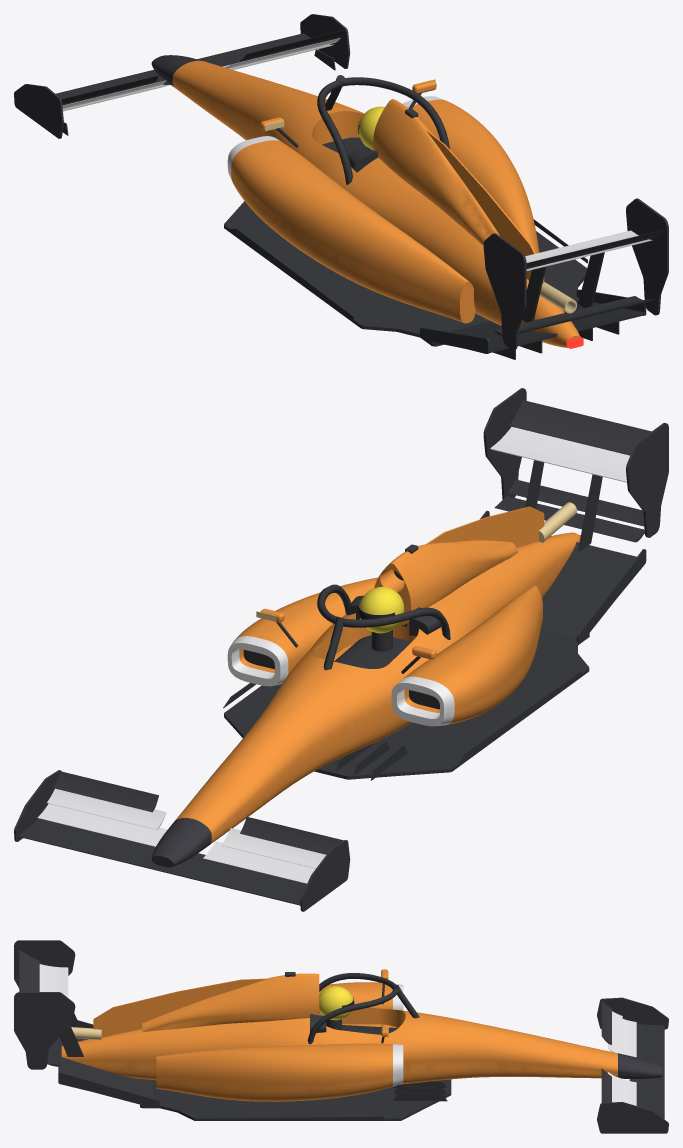
File: body.glb
The picture shows the model from 3 angles, top to bottom: view 1: azimuth 30°, elevation 25°; view 2: azimuth 150°, elevation 25°; view 3: azimuth 270°, elevation 25°; orthographic projection. The views are drawn at different scales.
Visible parts, largest first — view 1: Livery, Carbon, Accent, LiveryWhite, Metal, Helmet; view 2: Livery, Carbon, Accent, LiveryWhite, Helmet, Metal; view 3: Livery, Carbon, Accent, LiveryWhite, Helmet, Metal.
Boxes of the visible parts, x1=… form: Livery: x1=172, y1=60, x2=579, y2=347; Carbon: x1=55, y1=33, x2=655, y2=359; Accent: x1=14, y1=14, x2=668, y2=350; LiveryWhite: x1=62, y1=38, x2=652, y2=270; Metal: x1=265, y1=79, x2=576, y2=313; Helmet: x1=359, y1=106, x2=384, y2=149; Livery: x1=175, y1=506, x2=580, y2=843; Carbon: x1=18, y1=460, x2=646, y2=905; Accent: x1=14, y1=388, x2=668, y2=911; LiveryWhite: x1=37, y1=427, x2=629, y2=883; Helmet: x1=359, y1=586, x2=404, y2=633; Metal: x1=256, y1=502, x2=576, y2=651; Livery: x1=61, y1=969, x2=617, y2=1101; Carbon: x1=47, y1=973, x2=664, y2=1120; Accent: x1=14, y1=940, x2=668, y2=1133; LiveryWhite: x1=39, y1=964, x2=636, y2=1105; Helmet: x1=319, y1=986, x2=353, y2=1020; Metal: x1=71, y1=970, x2=388, y2=1039.
Bounding box in the file's own units: 1.87 × 0.955 × 4.94.
